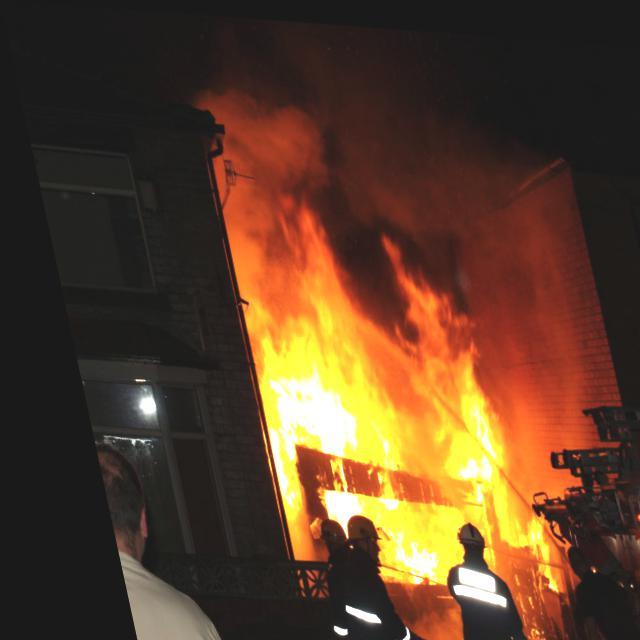Fire: (203, 136, 548, 639)
